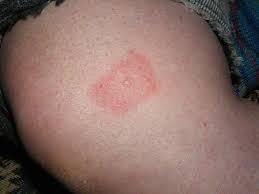Tick: (86, 45, 168, 127)
